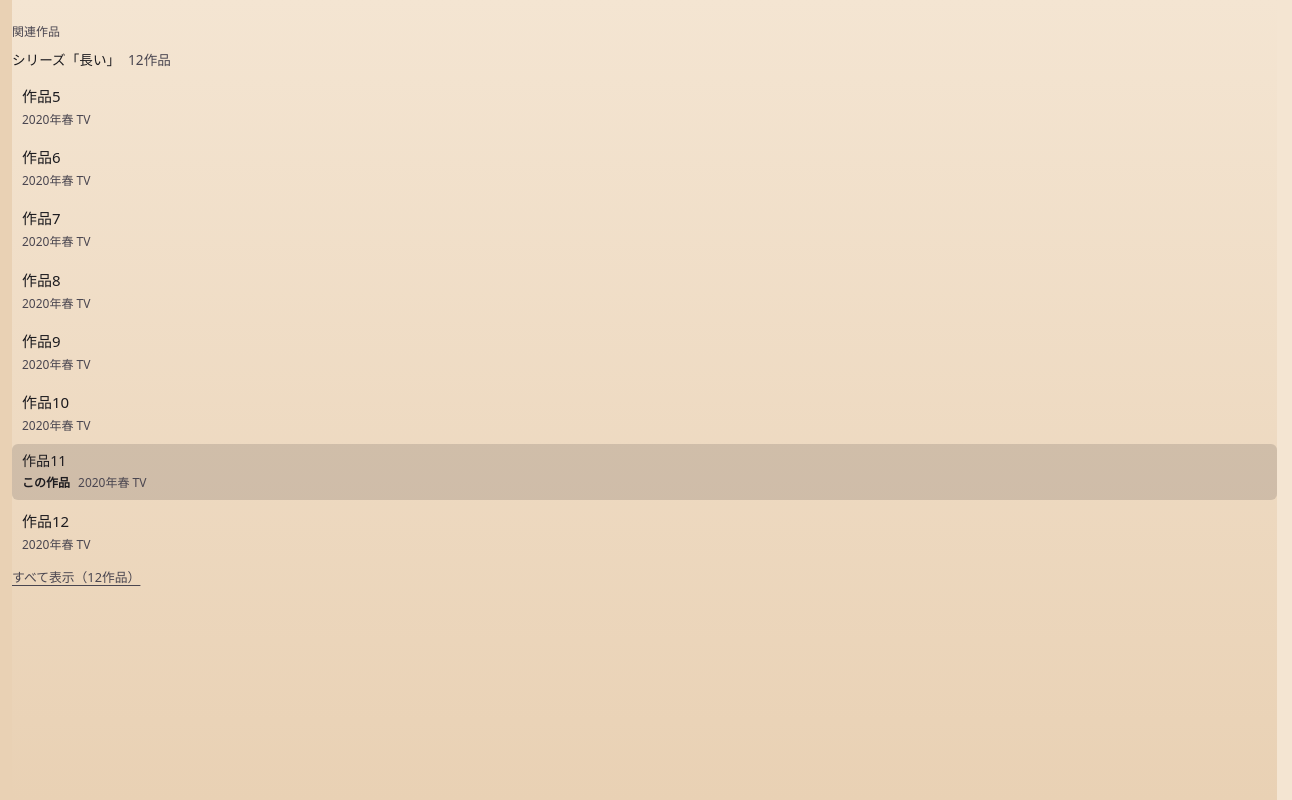
RelatedWorks › folds a long series around this work, and expands on request
Expected: the text "作品11" is shown, x1=22 y1=451 x2=66 y2=470
Click the button "すべて表示（12作品）" at (76, 576), box x1=12 y1=567 x2=140 y2=586
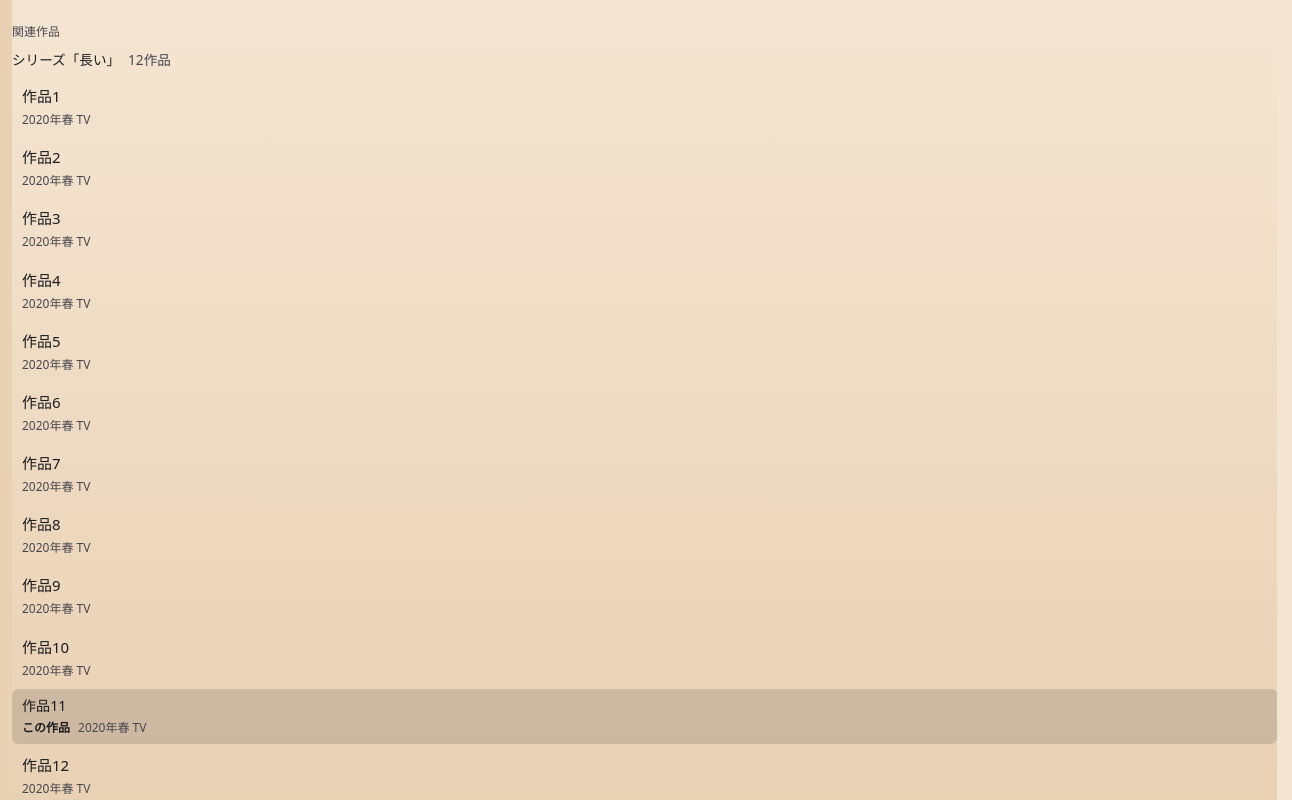
Now the number of list items is 12
